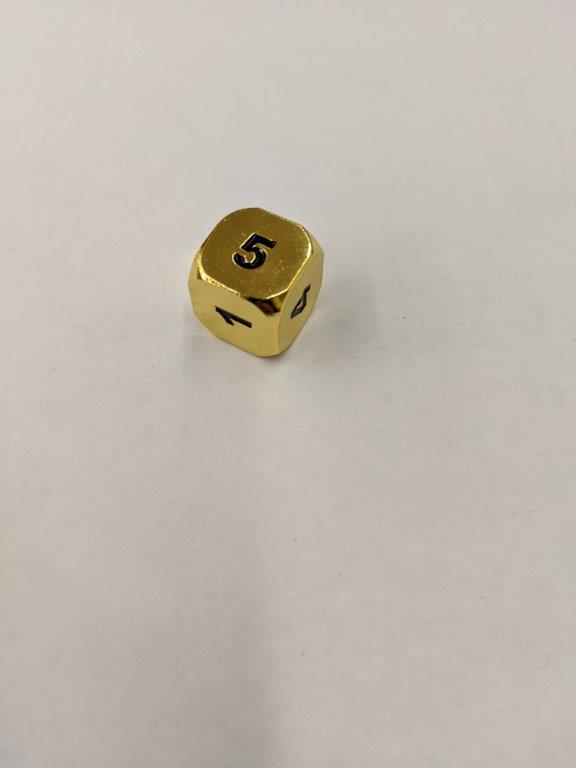d6-5: (188, 207, 324, 357)
